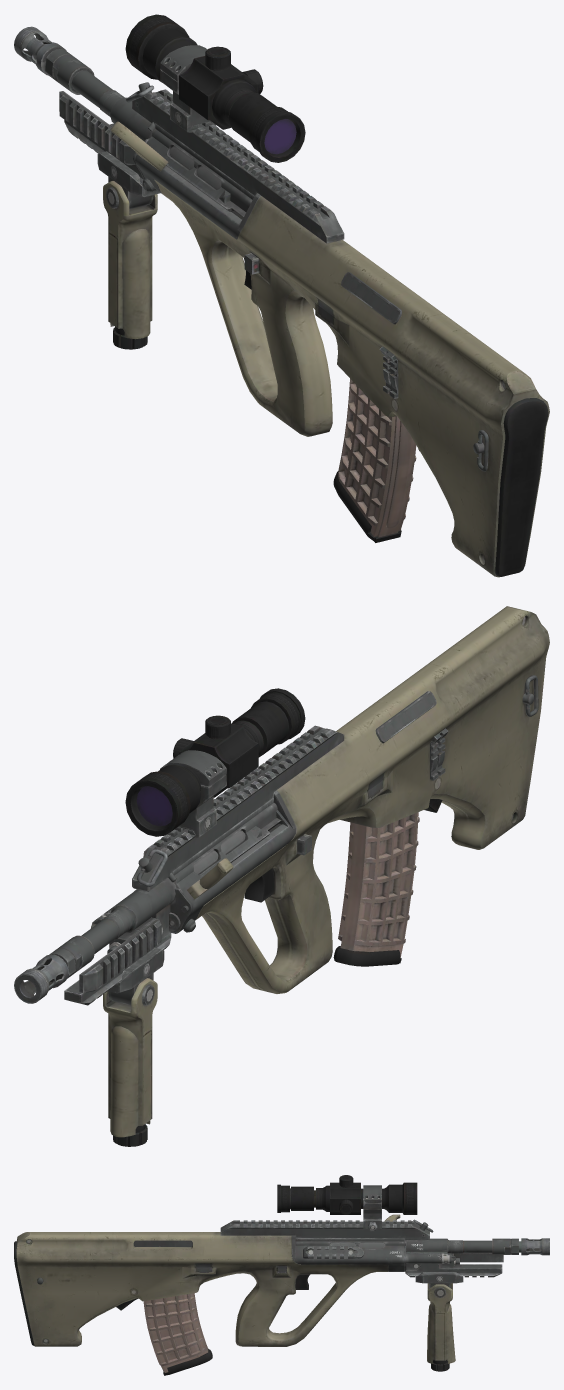
Rendered from aug.glb.
3 renders of one model, top to bottom at view 1: azimuth 30°, elevation 25°; view 2: azimuth 150°, elevation 25°; view 3: azimuth 270°, elevation 25°, orthographic. The views are drawn at different scales.
Parts seen in each view (by area): view 1: Object023_01 - Default_0, Object023_02 - Default_0; view 2: Object023_01 - Default_0, Object023_02 - Default_0; view 3: Object023_01 - Default_0.
Part boxes in pixels (x1,y1,x2,y2): Object023_01 - Default_0: (14,14,549,577); Object023_02 - Default_0: (264,119,296,154); Object023_01 - Default_0: (14,606,549,1146); Object023_02 - Default_0: (136,786,172,826); Object023_01 - Default_0: (14,1175,549,1375).
Size of the model in its own units: 0.0772 by 0.277 by 0.69.
Materials: 2 (2 with a texture image).
